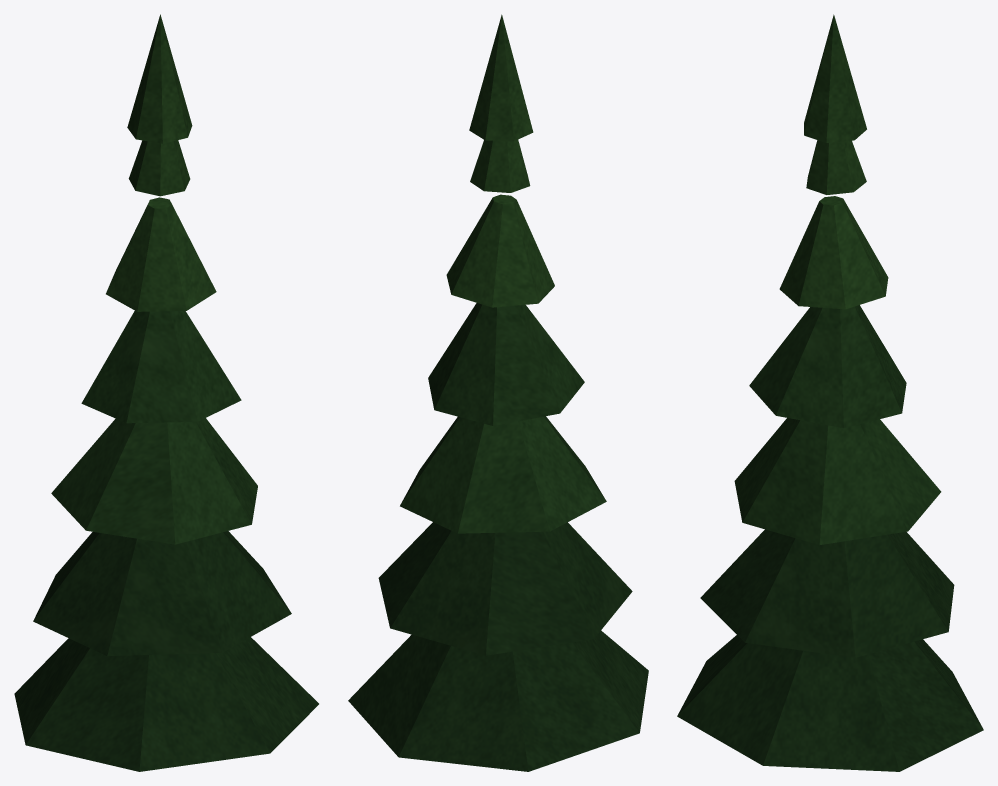
File: spruce.gltf
3 views of the same model, side by side, from view 1: azimuth 30°, elevation 25°; view 2: azimuth 150°, elevation 25°; view 3: azimuth 270°, elevation 25° (orthographic).
Parts seen in each view (by area): view 1: Spruce; view 2: Spruce; view 3: Spruce.
Part boxes in pixels (x1,y1,x2,y2): Spruce: [14, 14, 318, 771]; Spruce: [348, 14, 648, 771]; Spruce: [677, 14, 983, 771].
Bounding box in the file's own units: 0.9902 × 2.6 × 1.01.
4 materials, 4 textured.
